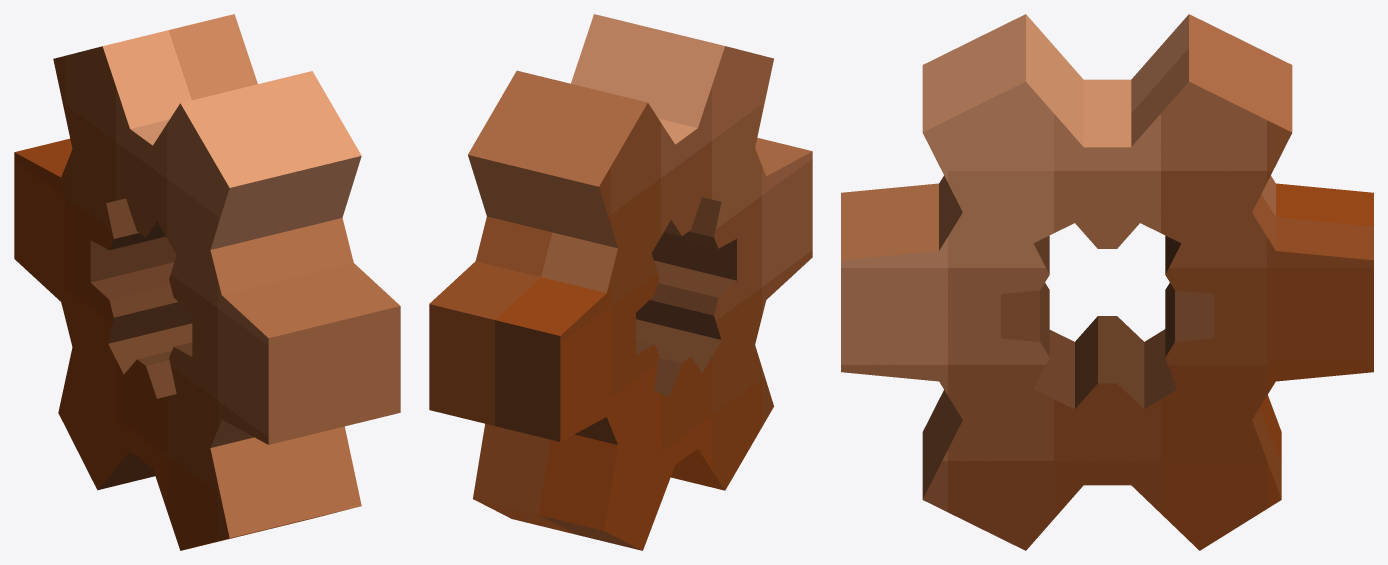
Rendered from coletavelENGRENAGEM.gltf.
3 renders of one model, left to right at view 1: azimuth 30°, elevation 25°; view 2: azimuth 150°, elevation 25°; view 3: azimuth 270°, elevation 25°, orthographic. The views are drawn at different scales.
Visible parts, largest first — view 1: cylinder; view 2: cylinder; view 3: cylinder.
Part boxes in pixels (x1=…): cylinder: x1=14, y1=14, x2=400, y2=550; cylinder: x1=429, y1=14, x2=812, y2=550; cylinder: x1=841, y1=14, x2=1373, y2=550.
Size of the model in its own units: 0.0938 by 0.3037 by 0.3125.
1 material, 1 textured.
